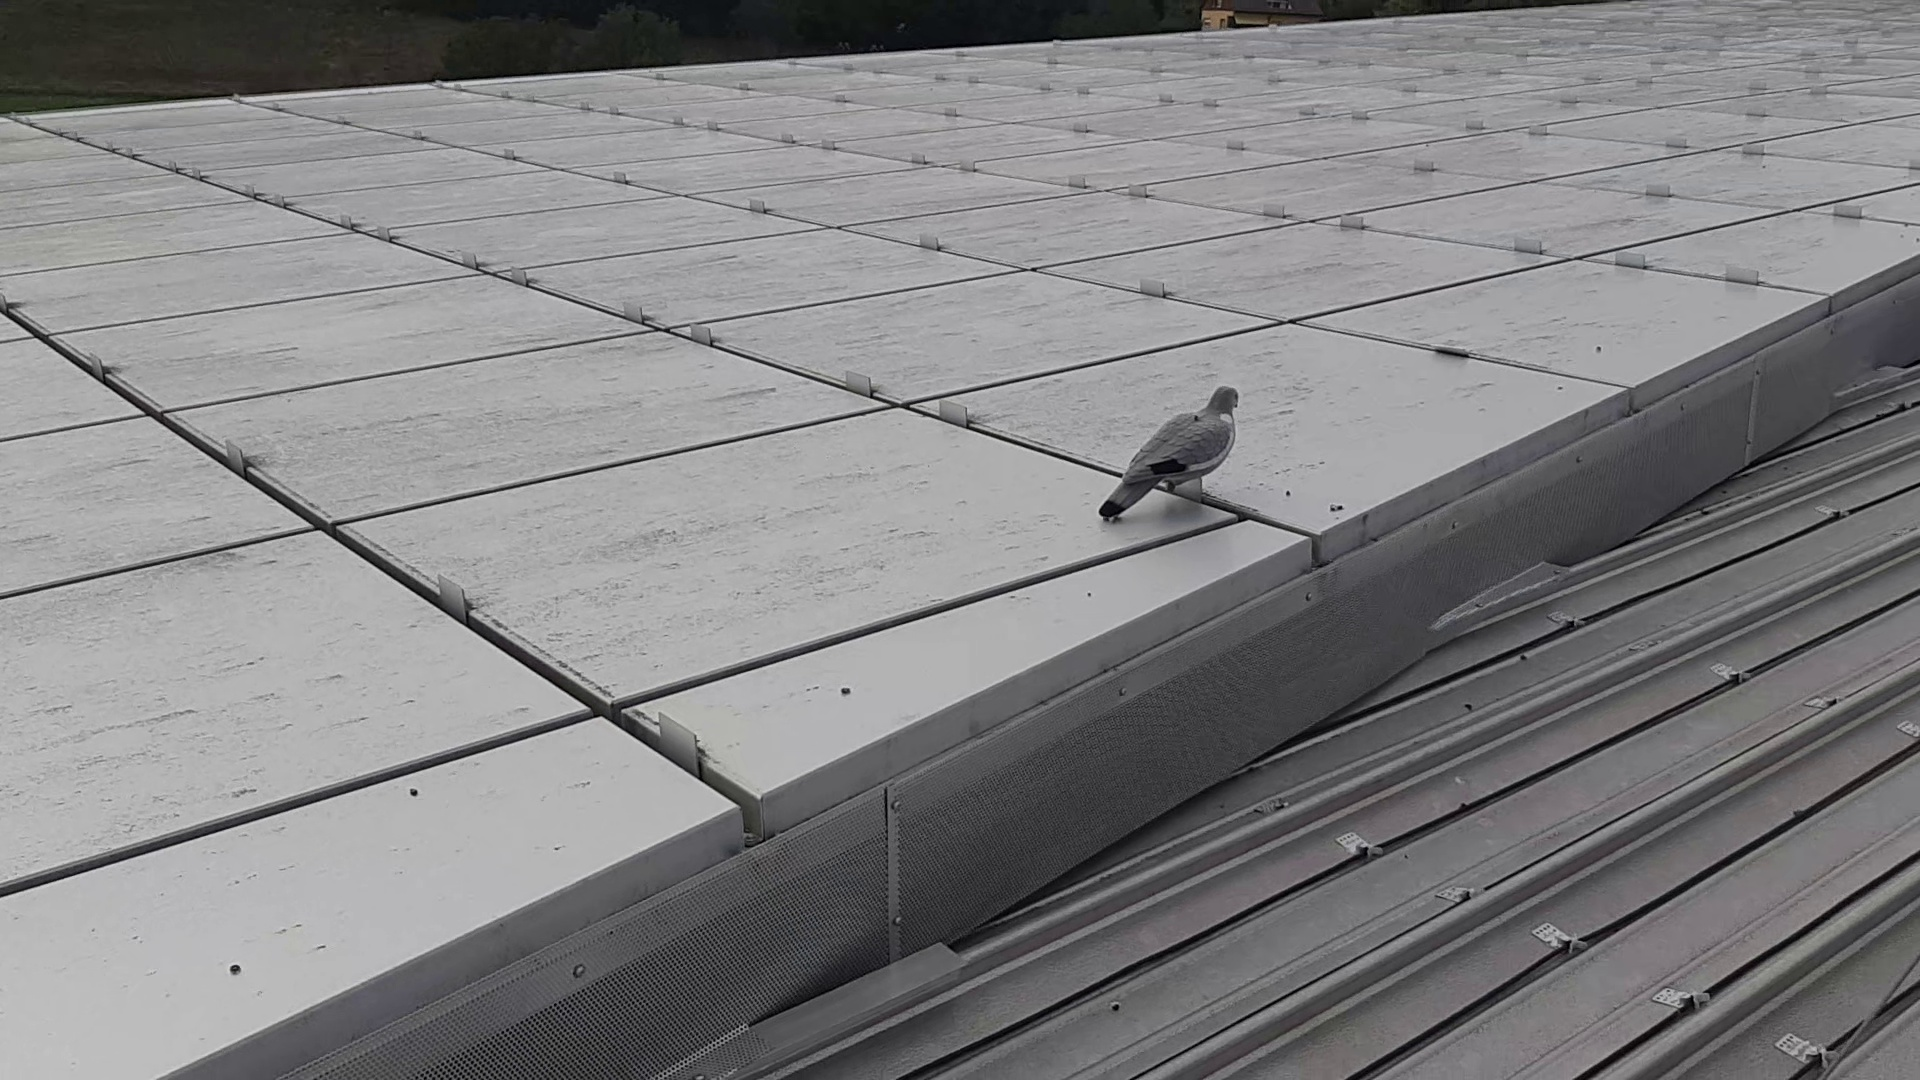Pigeon: (1098, 384, 1247, 520)
